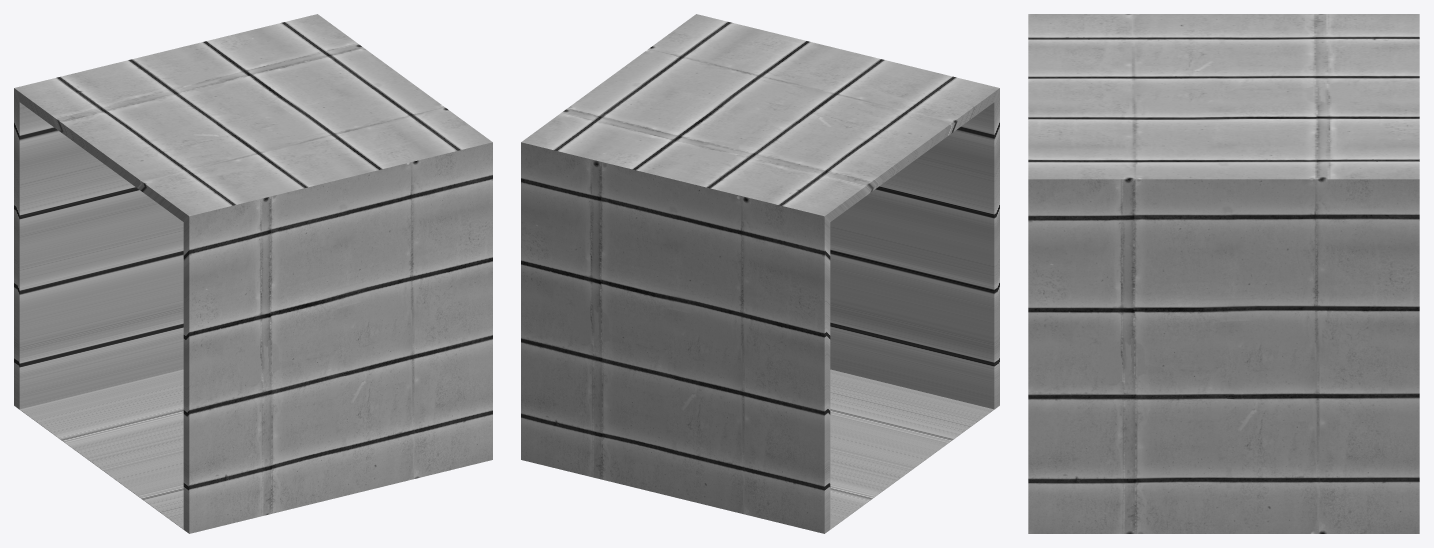
Rendered from Textured-Unit.glb.
3 renders of one model, left to right at view 1: azimuth 30°, elevation 25°; view 2: azimuth 150°, elevation 25°; view 3: azimuth 270°, elevation 25°, orthographic. The views are drawn at different scales.
Parts seen in each view (by area): view 1: Cube; view 2: Cube; view 3: Cube.
Boxes of the visible parts, x1,y1,x2,y2 form: Cube: (14,14,492,533); Cube: (521,14,999,533); Cube: (1028,14,1419,533).
Bounding box in the file's own units: 10 × 10 × 10.
1 material, 1 textured.
